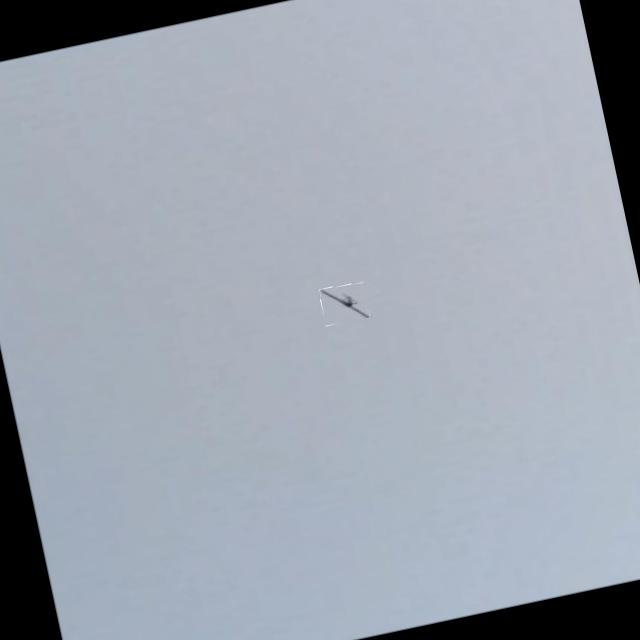UAV: (274, 262, 376, 340)
